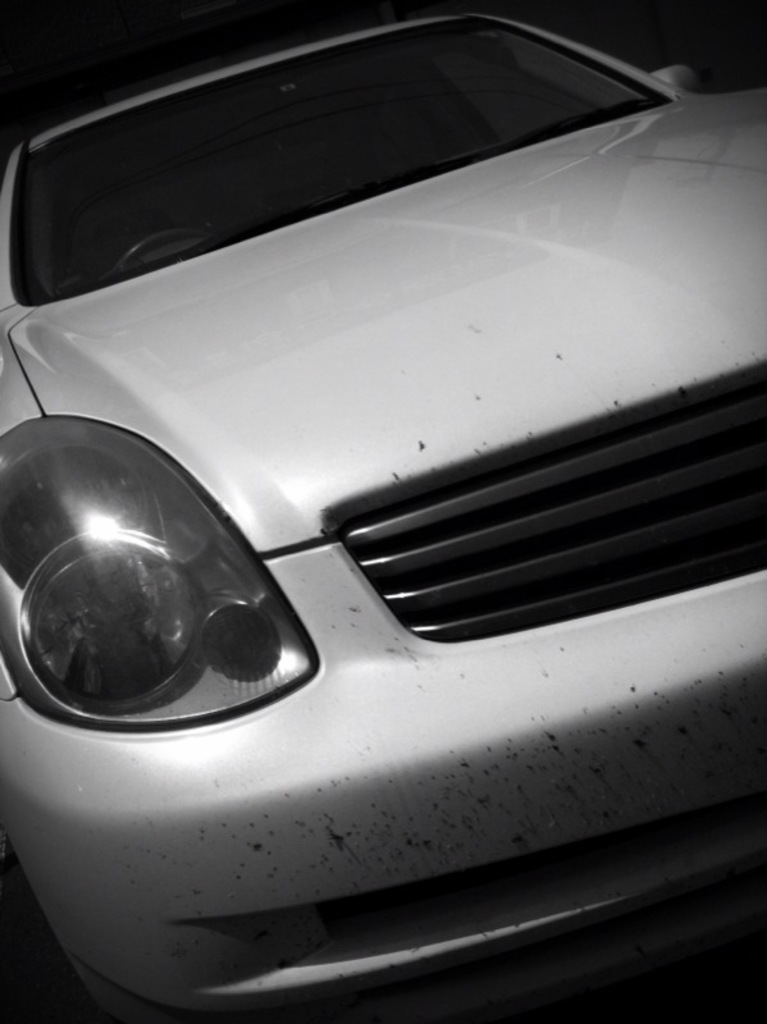Car: (0, 6, 765, 1022)
